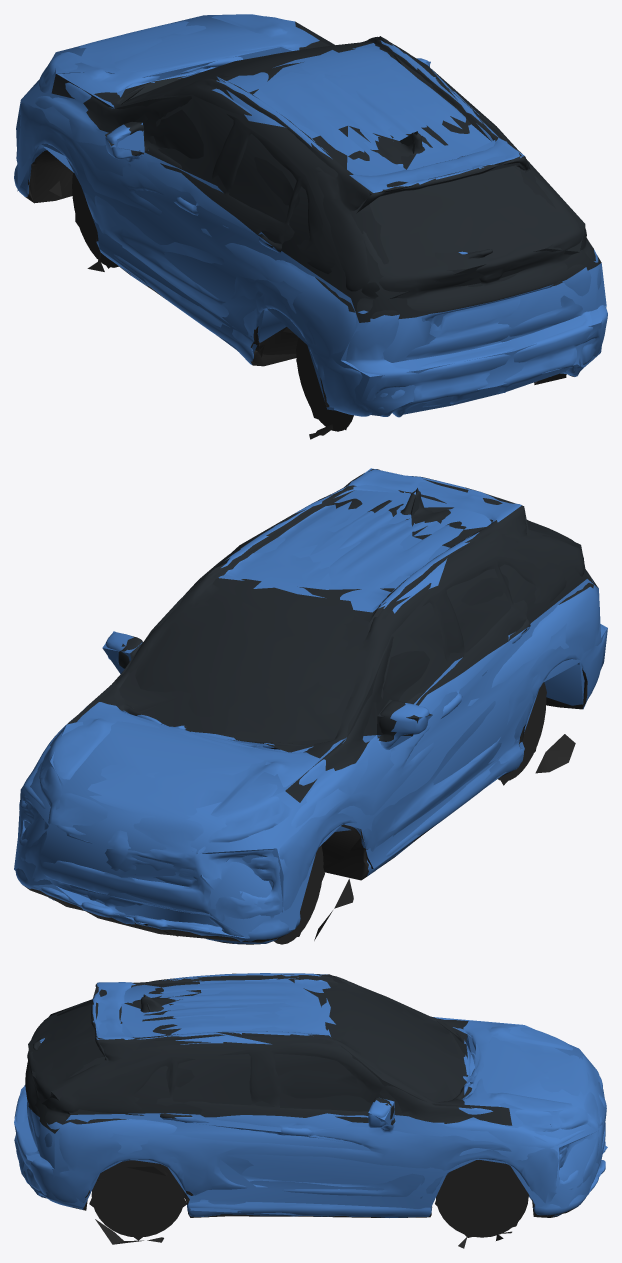
The model's file is mitsubishi-eclipse-cross.glb.
3 renders of one model, top to bottom at view 1: azimuth 30°, elevation 25°; view 2: azimuth 150°, elevation 25°; view 3: azimuth 270°, elevation 25°, orthographic. The views are drawn at different scales.
Parts seen in each view (by area): view 1: body, far; view 2: body, far; view 3: body, far.
Boxes of the visible parts, x1,y1,x2,y2 form: body: (14,14,607,439); far: (16,14,606,429); body: (15,469,605,944); far: (14,468,607,938); body: (14,973,606,1248); far: (14,974,607,1240).
Size of the model in its own units: 2.15 by 1.76 by 4.48.
